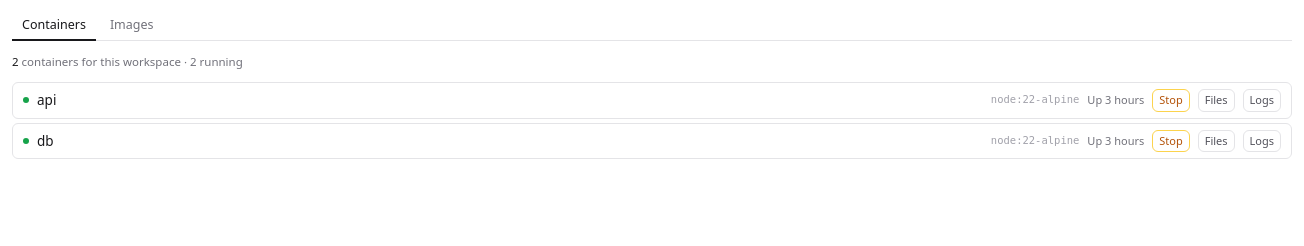
Test: TASK-1896 — Logs and Files are one pane, and it closes › AC-1 — opening Logs closes Files
Click the button with test id "docker-files-api". click: click(1216, 100)
box: [1198,89,1235,112]
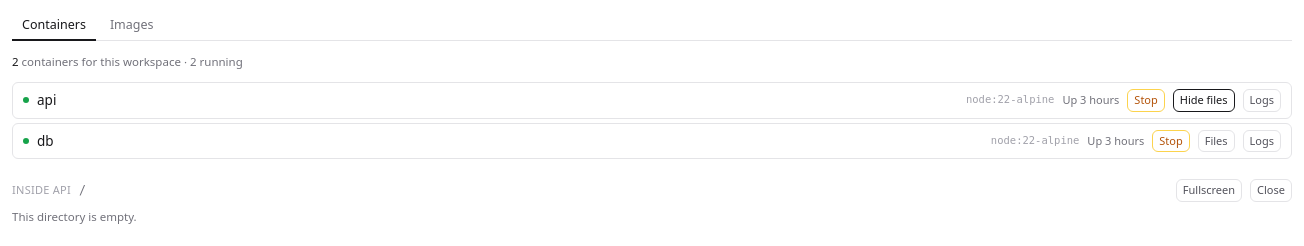
Check: the element with test id "container-files" is shown, box [12,179,1292,225]
Click the button with test id "docker-logs-api". click: click(1262, 100)
box: [1242,89,1281,112]
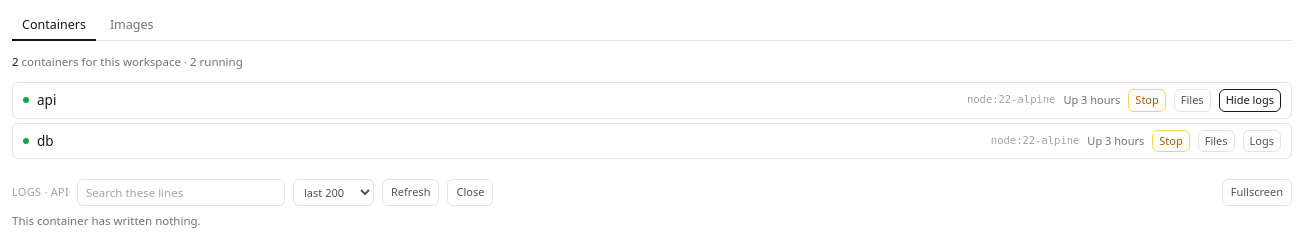
Check: the element with test id "container-files" is gone
Check: the element with test id "docker-logs-pane" is shown, box [12,179,1292,230]
